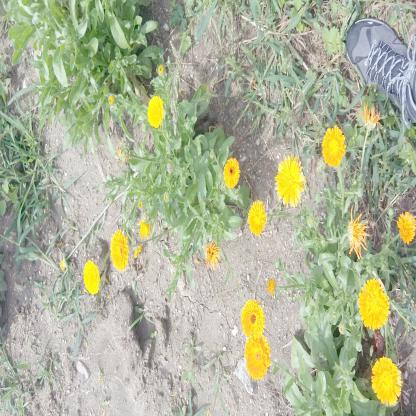marigold: (372, 357, 402, 405), (277, 155, 304, 206), (360, 280, 388, 329), (243, 334, 272, 380), (323, 125, 346, 168), (241, 299, 265, 339), (111, 230, 128, 270), (397, 211, 415, 244), (249, 201, 265, 236), (84, 260, 99, 294), (148, 97, 164, 127), (224, 158, 238, 186)
